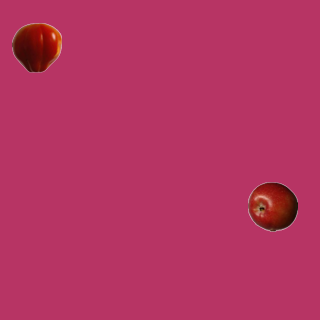Apple Braeburn: (247, 181, 297, 231)
Tomato 1: (11, 22, 61, 72)
